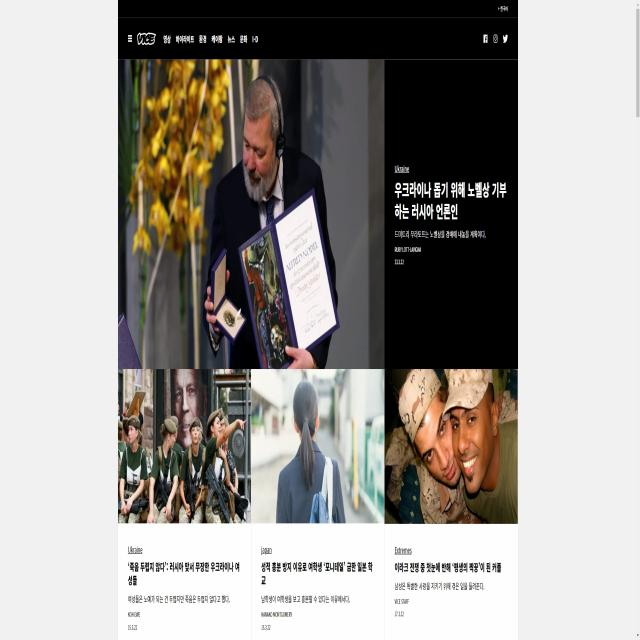tab-bar: (125, 28, 260, 54)
